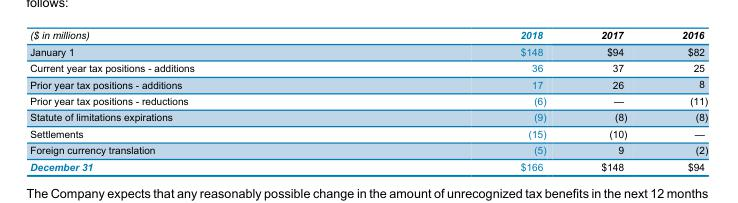table: (29, 29, 707, 171)
table column: (29, 29, 356, 171), (356, 29, 572, 171), (572, 29, 653, 171), (653, 29, 707, 171)
table column header: (29, 29, 707, 42)
table row: (29, 42, 707, 59), (29, 75, 707, 92), (29, 108, 707, 125), (29, 59, 707, 75), (29, 92, 707, 108), (29, 125, 707, 141), (29, 141, 707, 157), (29, 157, 707, 171), (29, 29, 707, 42)
